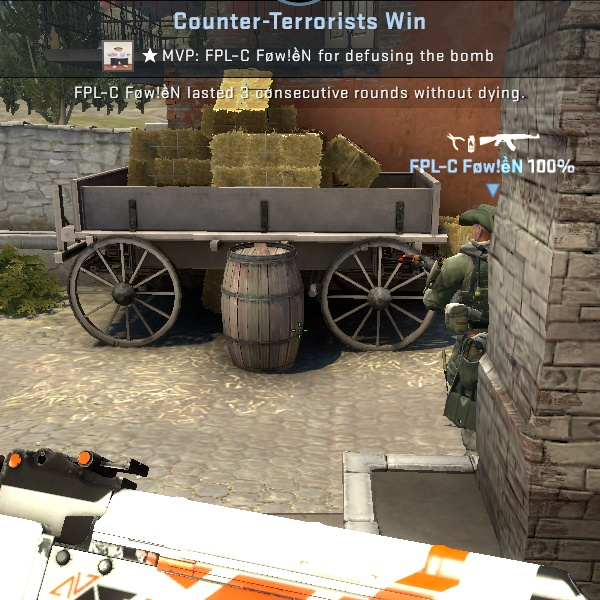ct_head: (444, 200, 500, 256)
